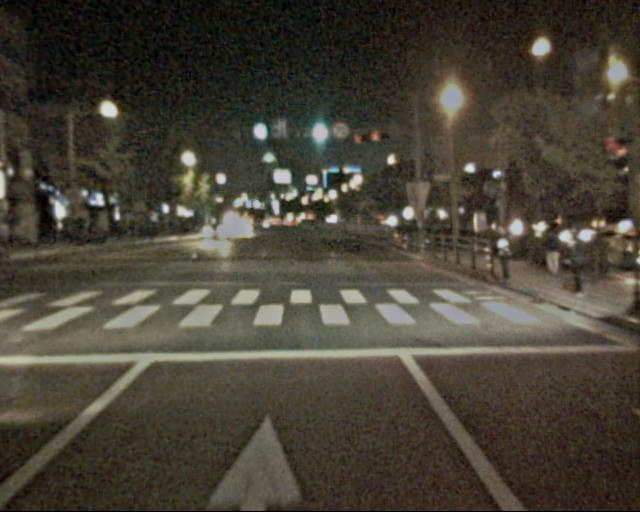person: (555, 227, 589, 297), (487, 223, 516, 285), (537, 222, 565, 281)
